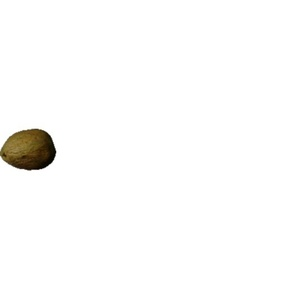mamão: (3, 122, 60, 175)
